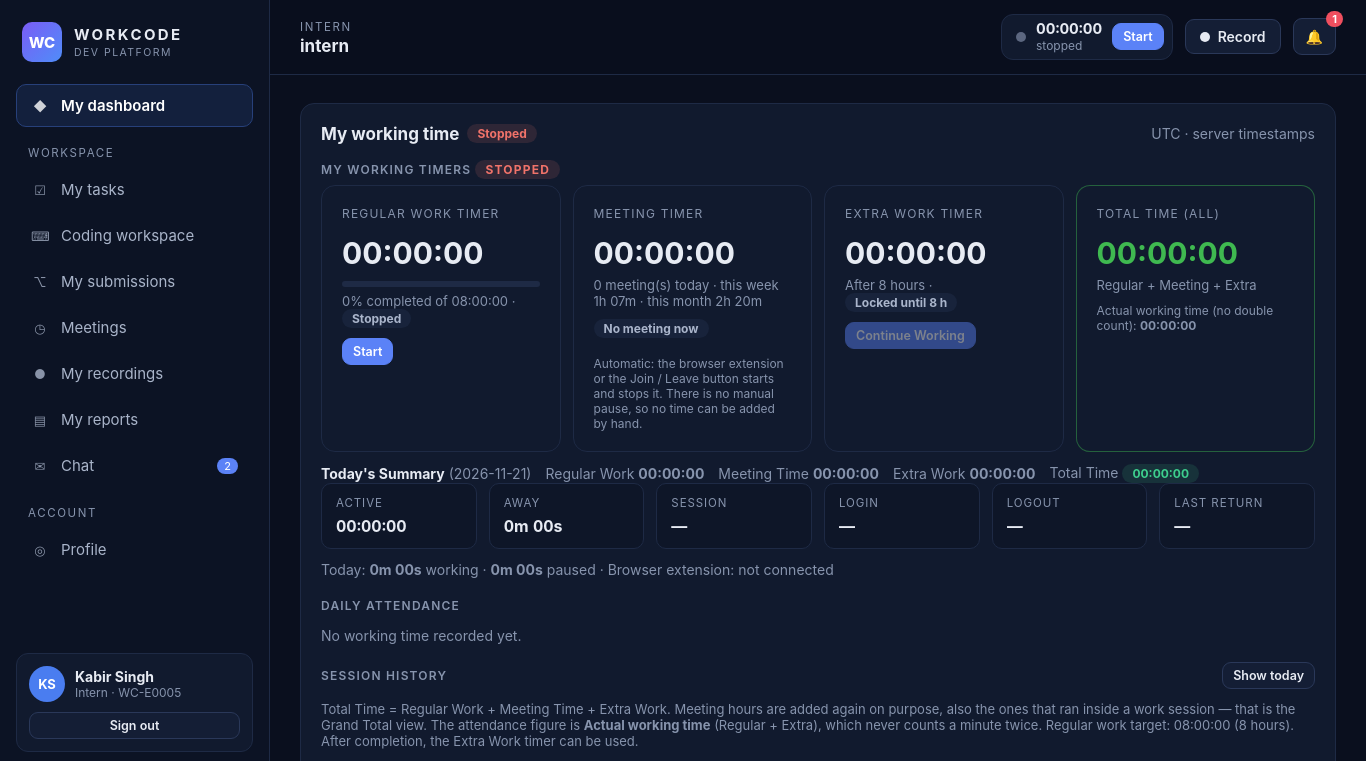
Scenario: automatic timer › does not restart after a manual stop until Start is pressed
The image size is (1366, 761).
Step 1. Click the 1st button "Start" → (1138, 37), box [1112,23,1164,50]
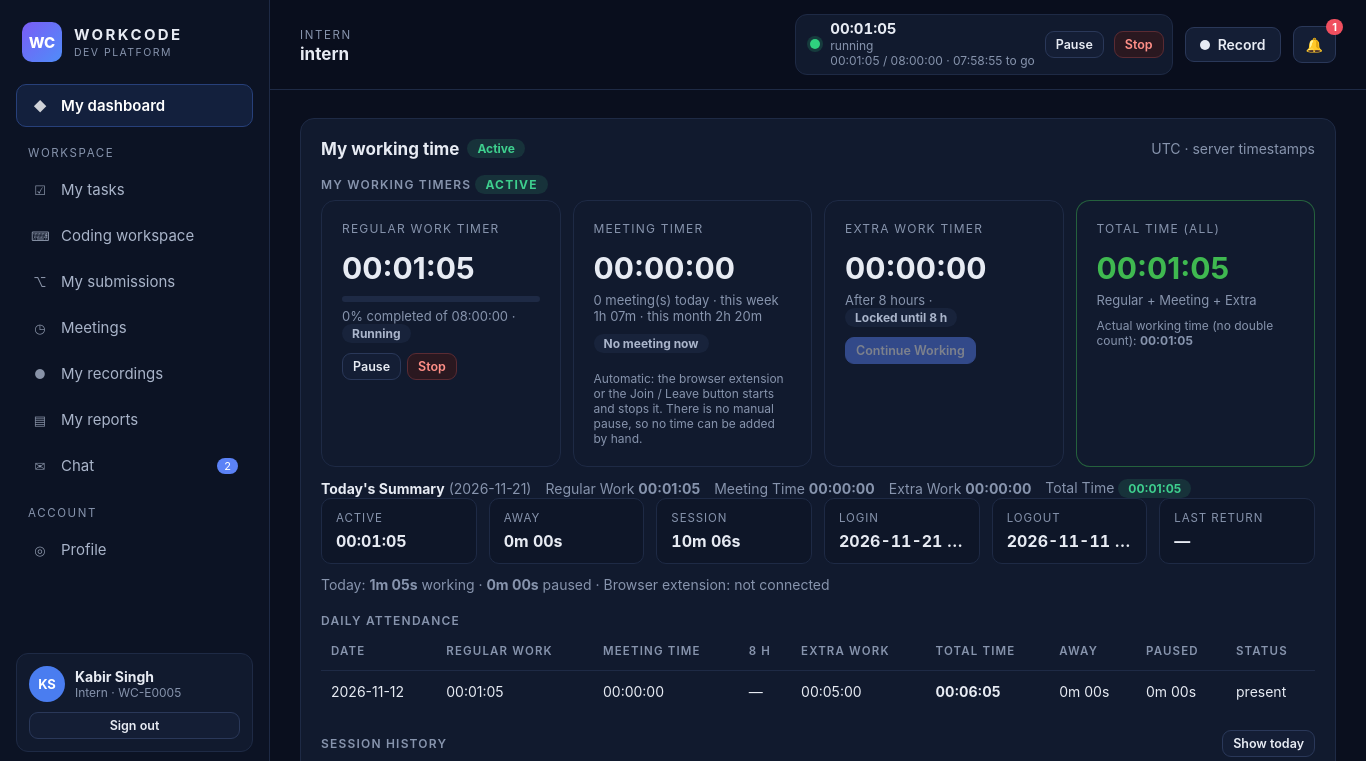
expect the text "running" is shown: met, box [830,38,874,52]
